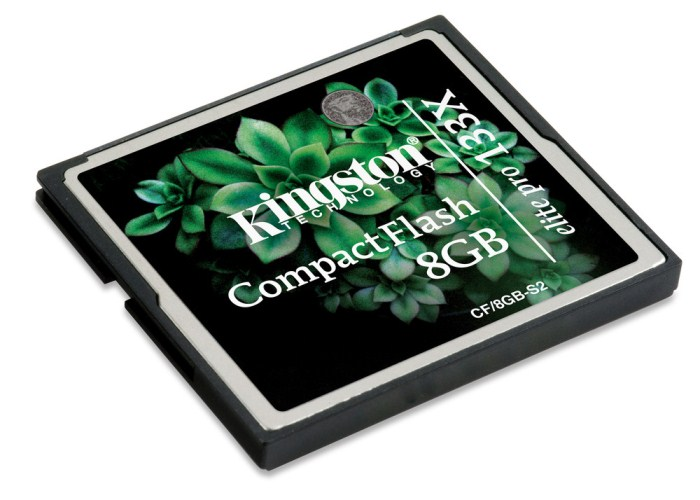Kingston: (225, 130, 448, 257)
